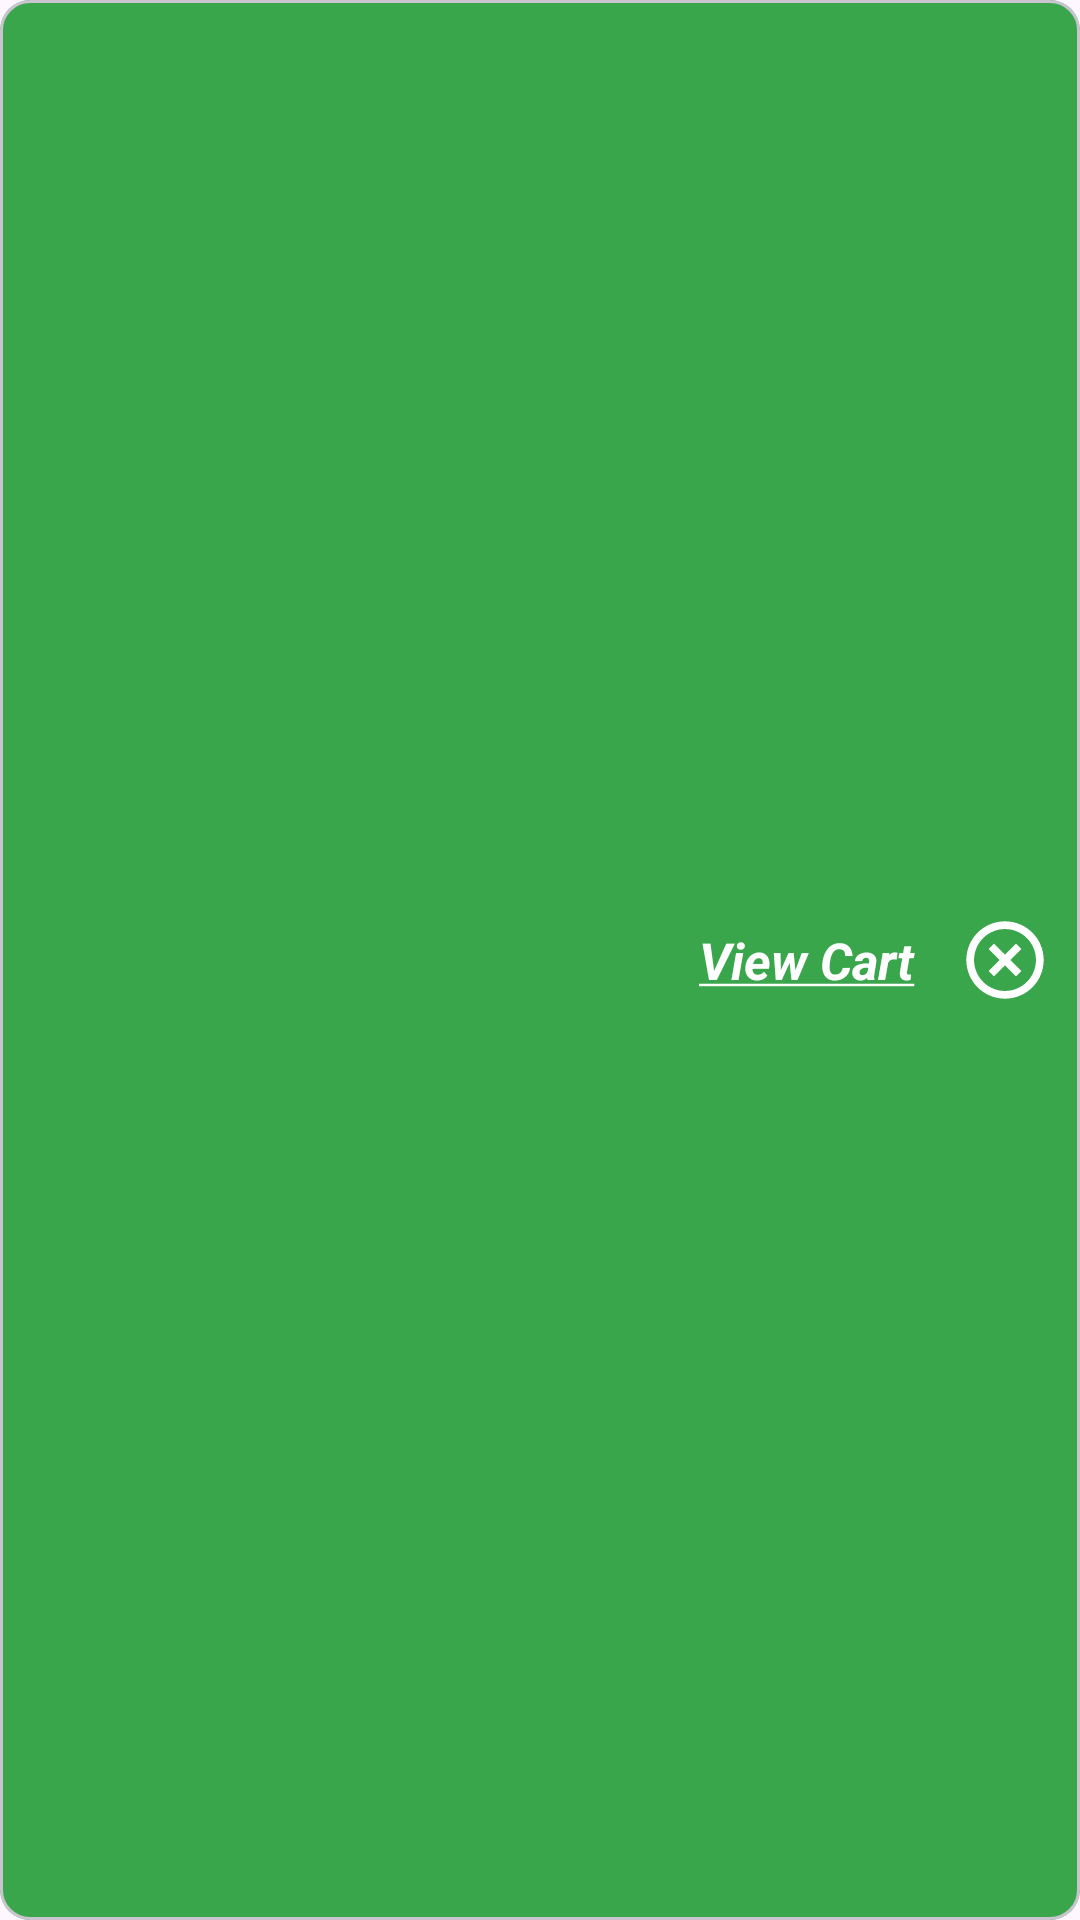

Icons on this 1080px x 1920px Android screen, each with the point to tap as (x,y):
cancel: (1005,960)
